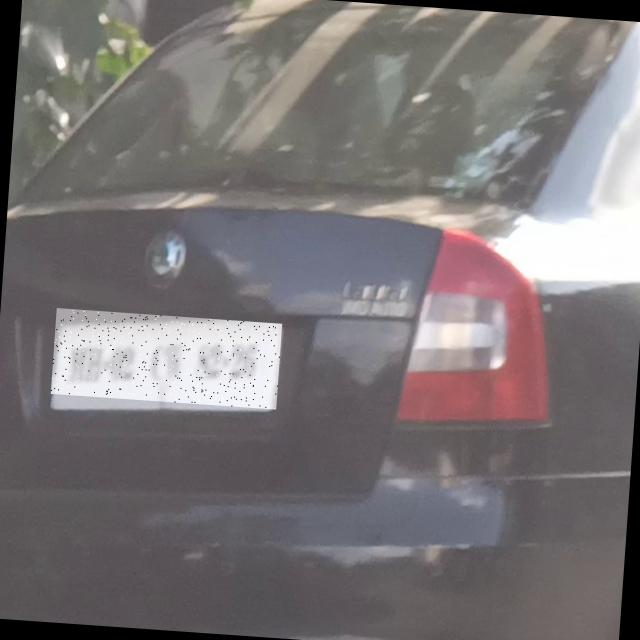Plate: (52, 309, 283, 411)
